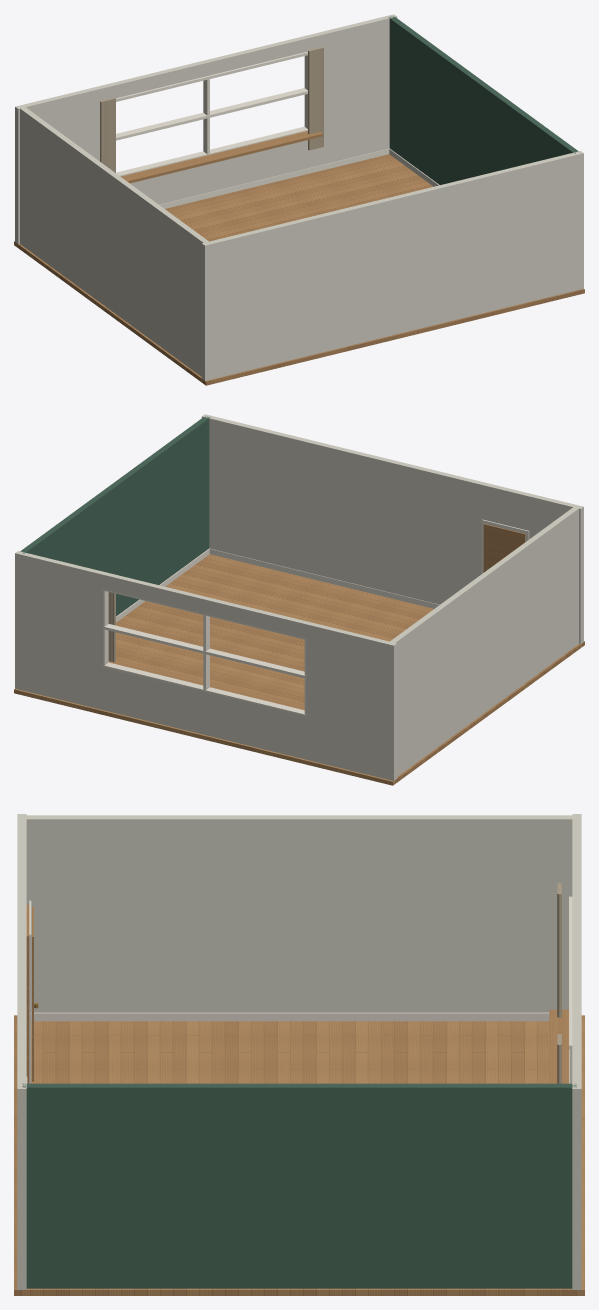
Rendered from architecture.dae.
3 views of the same model, one above another, from view 1: azimuth 30°, elevation 25°; view 2: azimuth 150°, elevation 25°; view 3: azimuth 270°, elevation 25° (orthographic). The views are drawn at different scales.
Visible parts, largest first — view 1: plaster, sage, oak, white, linen; view 2: plaster, oak, sage, white, linen; view 3: plaster, sage, oak, white, linen.
Boxes of the visible parts, x1=… form: plaster: x1=15, y1=14, x2=583, y2=380; sage: x1=388, y1=16, x2=578, y2=184; oak: x1=14, y1=131, x2=584, y2=385; white: x1=116, y1=51, x2=439, y2=208; linen: x1=100, y1=46, x2=323, y2=172; plaster: x1=15, y1=414, x2=583, y2=780; oak: x1=14, y1=523, x2=584, y2=785; sage: x1=20, y1=416, x2=210, y2=616; white: x1=101, y1=519, x2=529, y2=716; linen: x1=108, y1=592, x2=115, y2=662; plaster: x1=17, y1=814, x2=581, y2=1289; sage: x1=22, y1=1083, x2=576, y2=1288; oak: x1=14, y1=904, x2=584, y2=1295; white: x1=26, y1=896, x2=572, y2=1083; linen: x1=557, y1=883, x2=561, y2=1083.
Bounding box in the file's own units: 8.2 × 7.2 × 2.88.
Materials: 6 (2 with a texture image).
